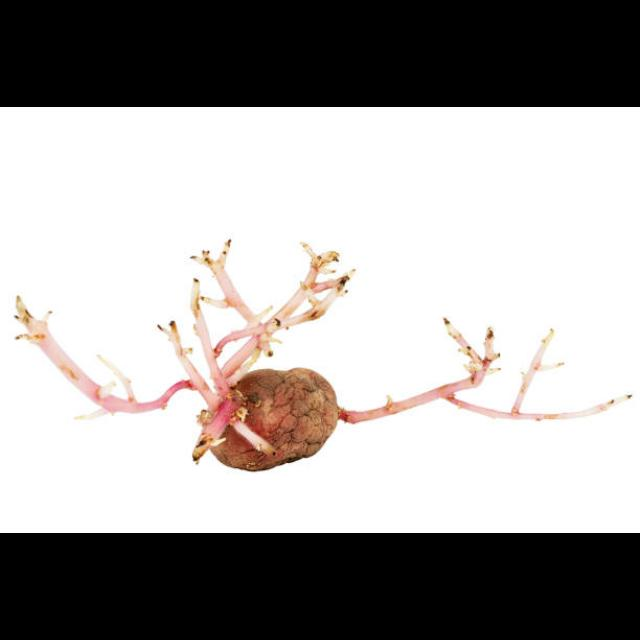Sprouted potato: (2, 108, 404, 514)
